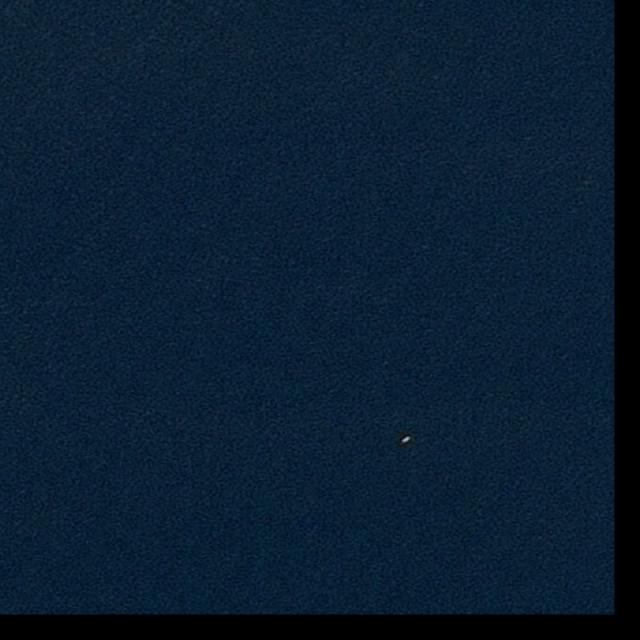ship: (401, 434, 413, 446)
